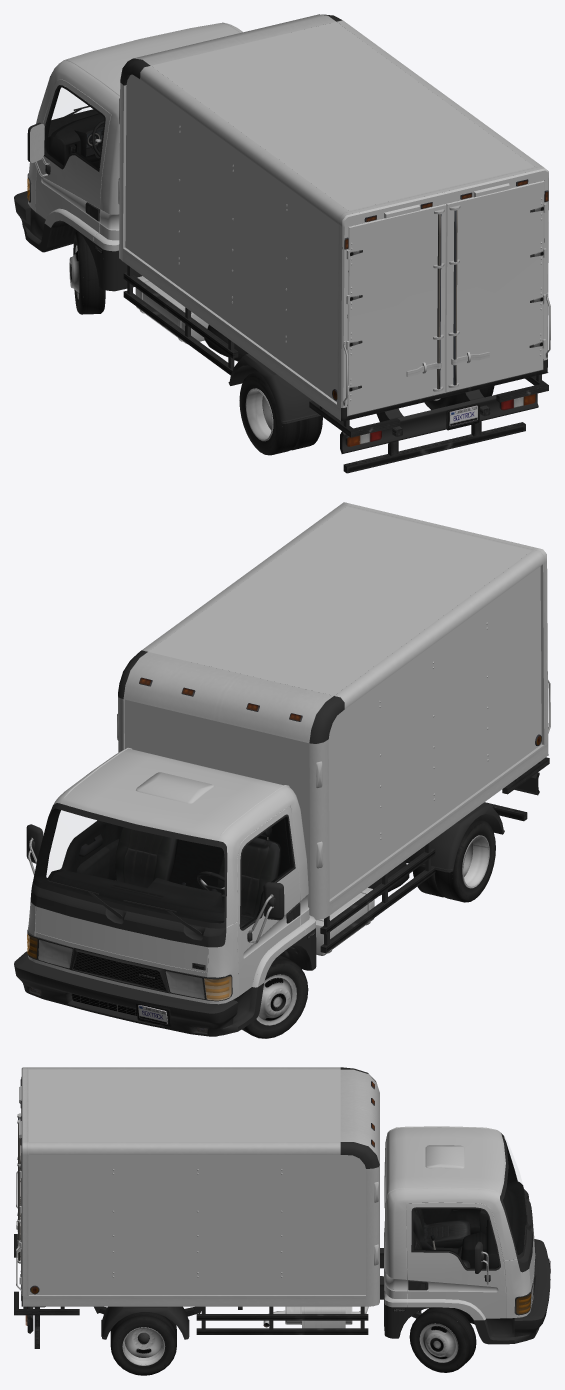
Rendered from light_truck_90.glb.
3 views of the same model, one above another, from view 1: azimuth 30°, elevation 25°; view 2: azimuth 150°, elevation 25°; view 3: azimuth 270°, elevation 25° (orthographic). The views are drawn at different scales.
Visible parts, largest first — view 1: body, wheel_RL, wheel_FL; view 2: body, wheel_FL, wheel_RL, wheel_FR; view 3: body, wheel_FR, wheel_RR.
Boxes of the visible parts, x1,y1,x2,y2 form: body: (14, 14, 550, 473); wheel_RL: (239, 373, 389, 455); wheel_FL: (26, 173, 111, 314); body: (14, 502, 550, 1036); wheel_FL: (164, 895, 315, 1038); wheel_RL: (413, 734, 541, 902); wheel_FR: (27, 847, 116, 969); body: (14, 1067, 550, 1364); wheel_FR: (287, 1278, 533, 1372); wheel_RR: (30, 1285, 269, 1375).
Bounding box in the file's own units: 2.04 × 2.22 × 4.69.
9 materials, 8 textured.
